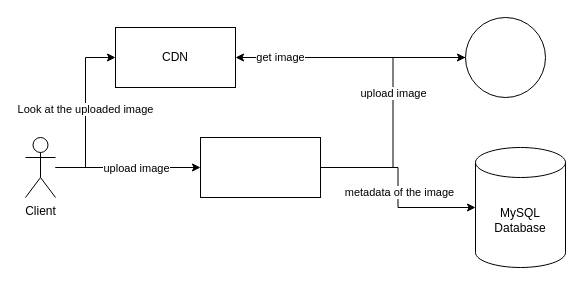
Image size: 583x285. Some labels were removed from this diagram. Each missing label, with the centre of its shape:
"App Server" goes at point 260,167.
"S3 Bucket" goes at point 505,57.
